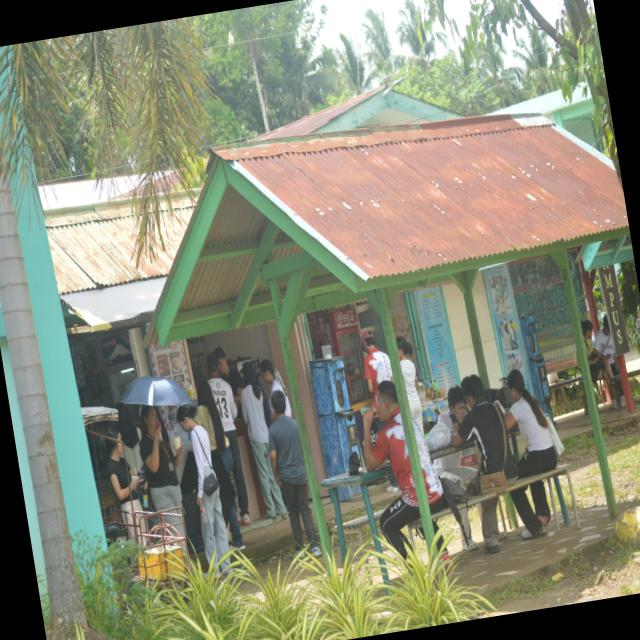person: (363, 381, 420, 558), (177, 406, 230, 575), (269, 390, 322, 557), (207, 353, 250, 525), (452, 375, 518, 485), (241, 362, 287, 519), (506, 370, 557, 479), (105, 427, 147, 544), (140, 405, 183, 511), (196, 382, 234, 493), (362, 330, 394, 444), (397, 336, 424, 432), (214, 347, 243, 418), (260, 360, 292, 420), (434, 449, 478, 486)
